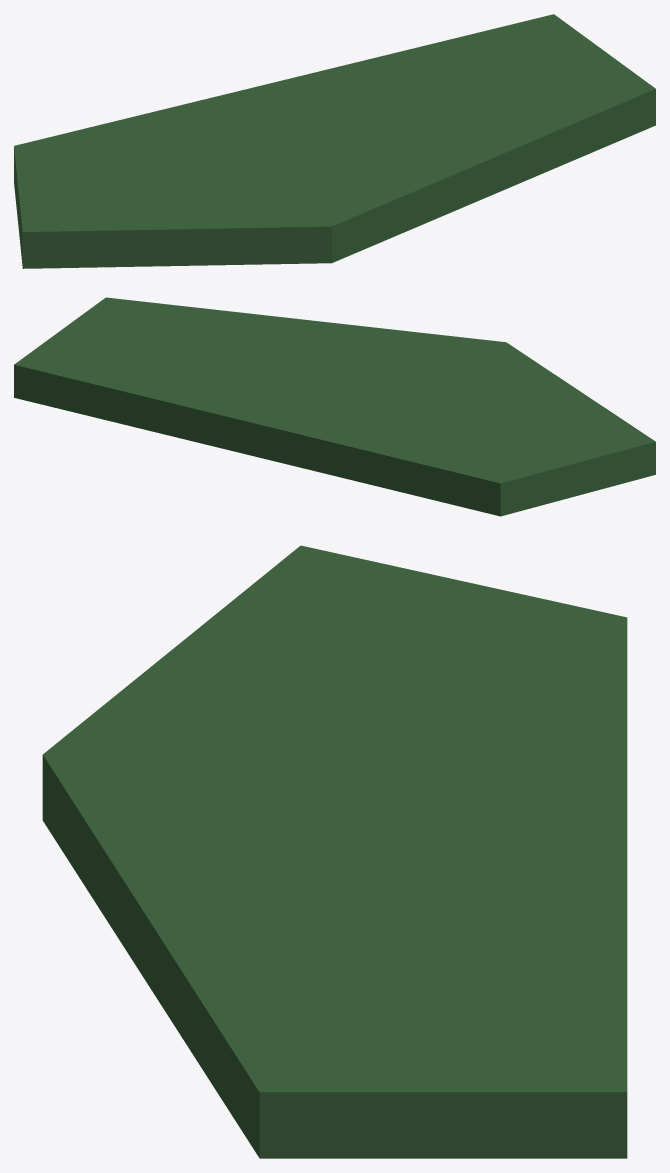
The model's file is x_proval_00_141_1_rmstrd.fbx.
3 renders of one model, top to bottom at view 1: azimuth 30°, elevation 25°; view 2: azimuth 150°, elevation 25°; view 3: azimuth 270°, elevation 25°, orthographic. The views are drawn at different scales.
Parts seen in each view (by area): view 1: x_proval_00_141_1_rmstrd1; view 2: x_proval_00_141_1_rmstrd1; view 3: x_proval_00_141_1_rmstrd1.
Part boxes in pixels (<box>): x_proval_00_141_1_rmstrd1: <box>14,14,655,268</box>; x_proval_00_141_1_rmstrd1: <box>14,297,655,516</box>; x_proval_00_141_1_rmstrd1: <box>42,545,627,1158</box>.
Bounding box in the file's own units: 3.55 × 0.2 × 1.6.
